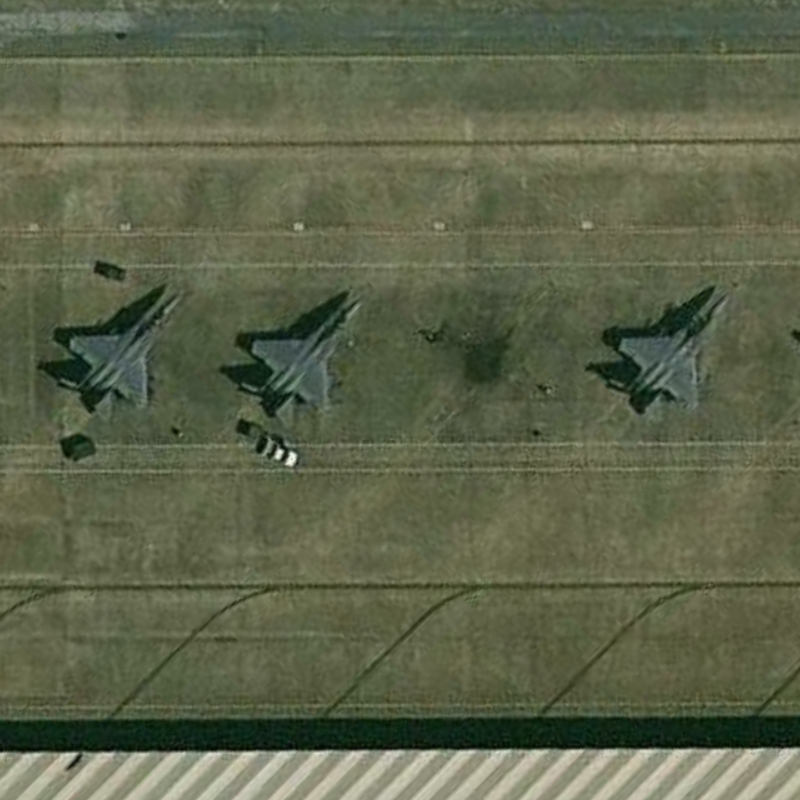A13: (48, 286, 191, 428), (228, 294, 368, 433), (597, 287, 742, 421)
